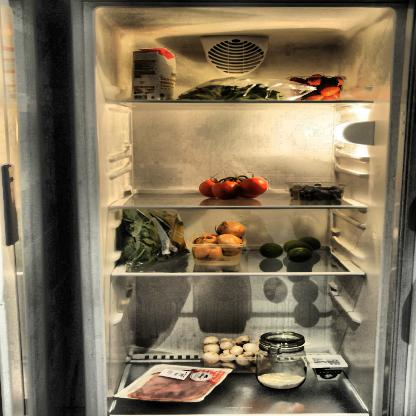blueberries: (285, 182, 347, 201)
green_beans: (178, 75, 318, 102)
lime: (259, 236, 322, 264)
mushrooms: (201, 332, 261, 373)
onion: (192, 219, 244, 264)
spinach: (114, 206, 192, 267)
strawberries: (286, 75, 352, 101)
tomato: (195, 174, 269, 200)
